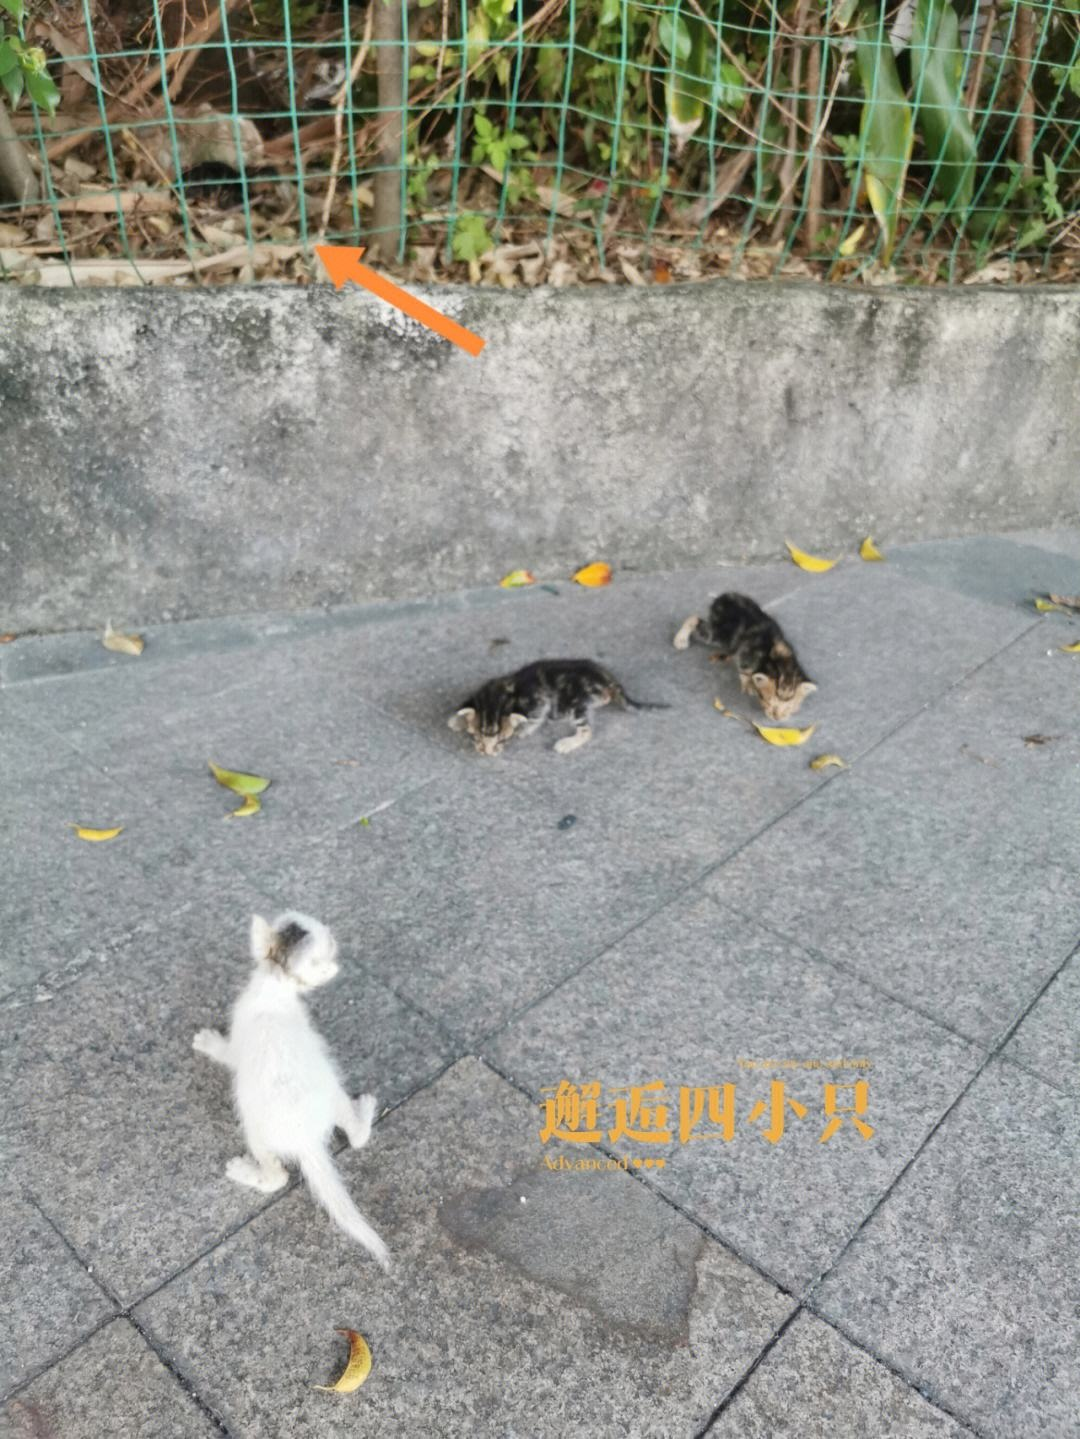cat: (193, 909, 395, 1277), (445, 657, 675, 759), (670, 590, 819, 723), (77, 100, 264, 194)
